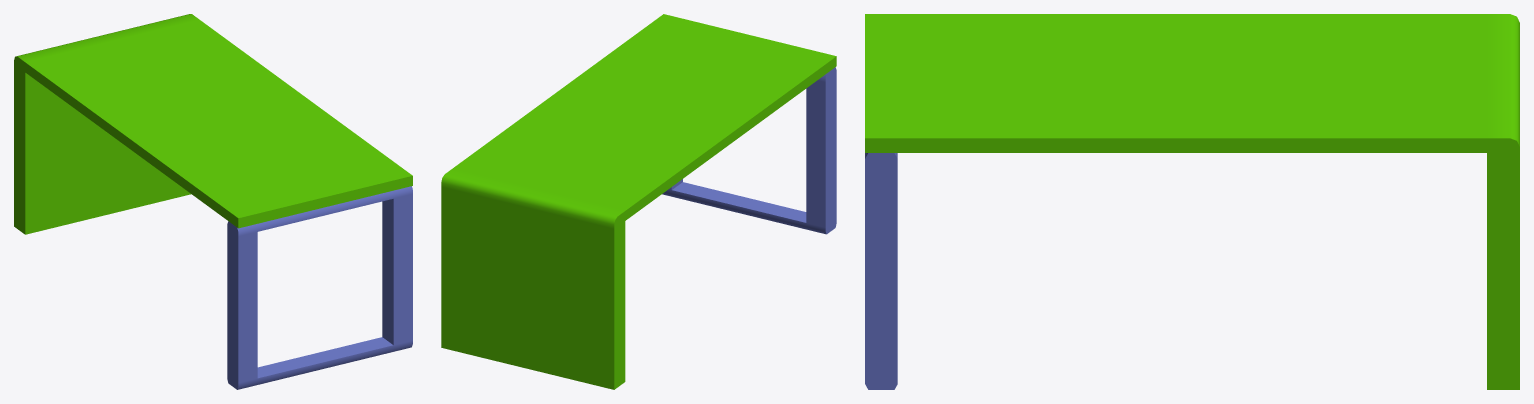
File: Desk.fbx
3 views of the same model, side by side, from view 1: azimuth 30°, elevation 25°; view 2: azimuth 150°, elevation 25°; view 3: azimuth 270°, elevation 25° (orthographic). The views are drawn at different scales.
Parts seen in each view (by area): view 1: Cube.001, Cube.002; view 2: Cube.001, Cube.002; view 3: Cube.001, Cube.002.
Part boxes in pixels (box(x1,y1,x2,y2)): Cube.001: box(14, 14, 412, 234); Cube.002: box(227, 186, 412, 389); Cube.001: box(441, 14, 836, 389); Cube.002: box(662, 67, 836, 234); Cube.001: box(865, 14, 1519, 389); Cube.002: box(865, 153, 897, 389).
Bounding box in the file's own units: 90 × 85 × 200.
